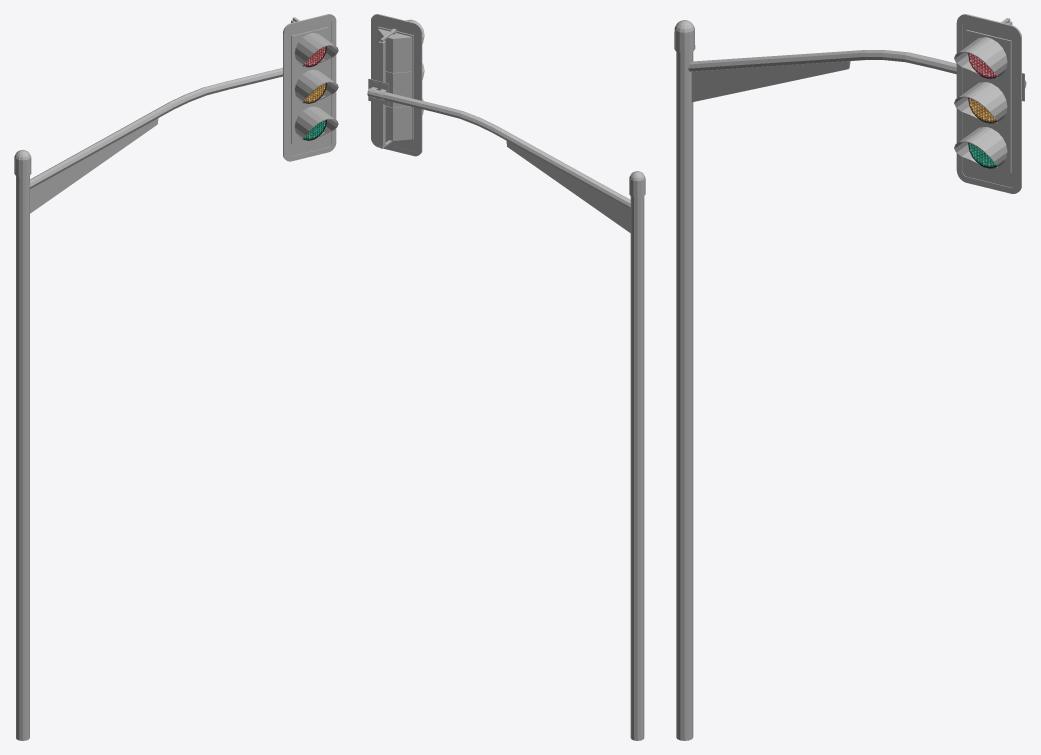
File: 红绿灯 1.FBX
The picture shows the model from 3 angles, left to right: view 1: azimuth 30°, elevation 25°; view 2: azimuth 150°, elevation 25°; view 3: azimuth 330°, elevation 25°; orthographic projection. The views are drawn at different scales.
Parts seen in each view (by area): view 1: 红绿灯001; view 2: 红绿灯001; view 3: 红绿灯001.
Part boxes in pixels (x1,y1,x2,y2): 红绿灯001: (14,14,338,740); 红绿灯001: (367,14,645,740); 红绿灯001: (674,14,1026,740).
Bounding box in the file's own units: 2.24 × 4.73 × 0.5127.
4 materials, 3 textured.
